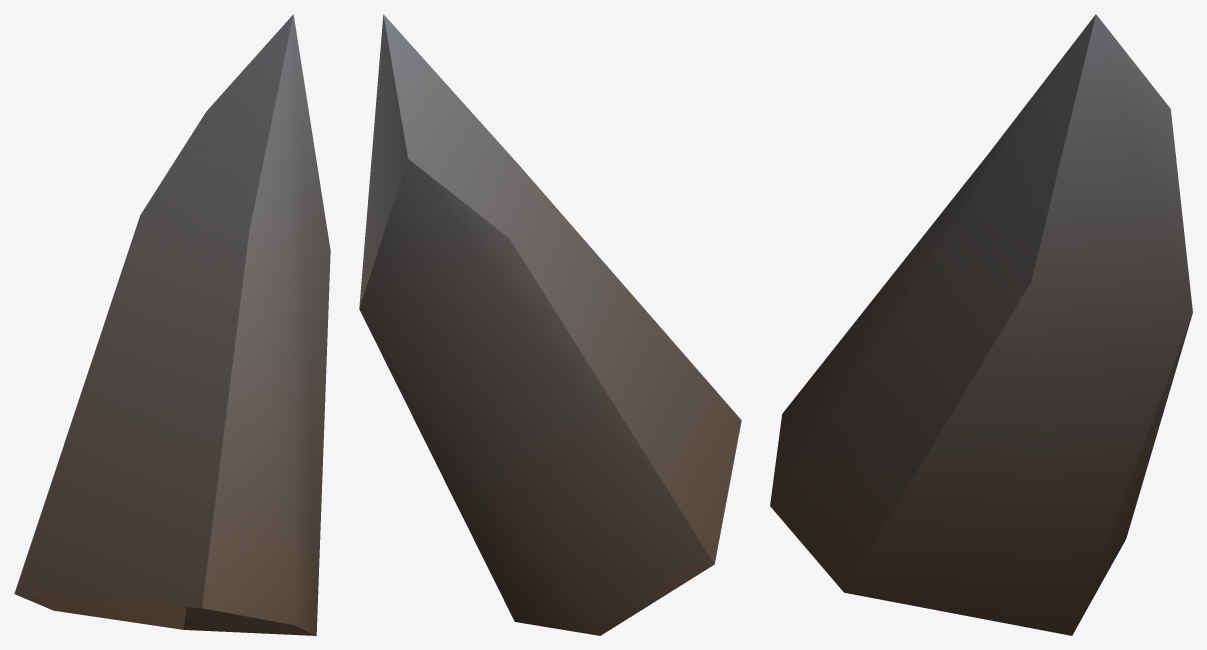
The picture shows the model from 3 angles, left to right: view 1: azimuth 30°, elevation 25°; view 2: azimuth 150°, elevation 25°; view 3: azimuth 270°, elevation 25°; orthographic projection. The views are drawn at different scales.
Visible parts, largest first — view 1: Cube.009; view 2: Cube.009; view 3: Cube.009.
Part boxes in pixels (box(x1,y1,x2,y2)): Cube.009: box(14, 14, 330, 635); Cube.009: box(359, 14, 741, 635); Cube.009: box(770, 14, 1192, 635).
Size of the model in its own units: 10.47 by 18.5 by 10.25.
